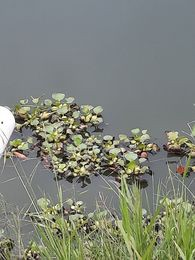water_hyacinth: (9, 91, 194, 184)
